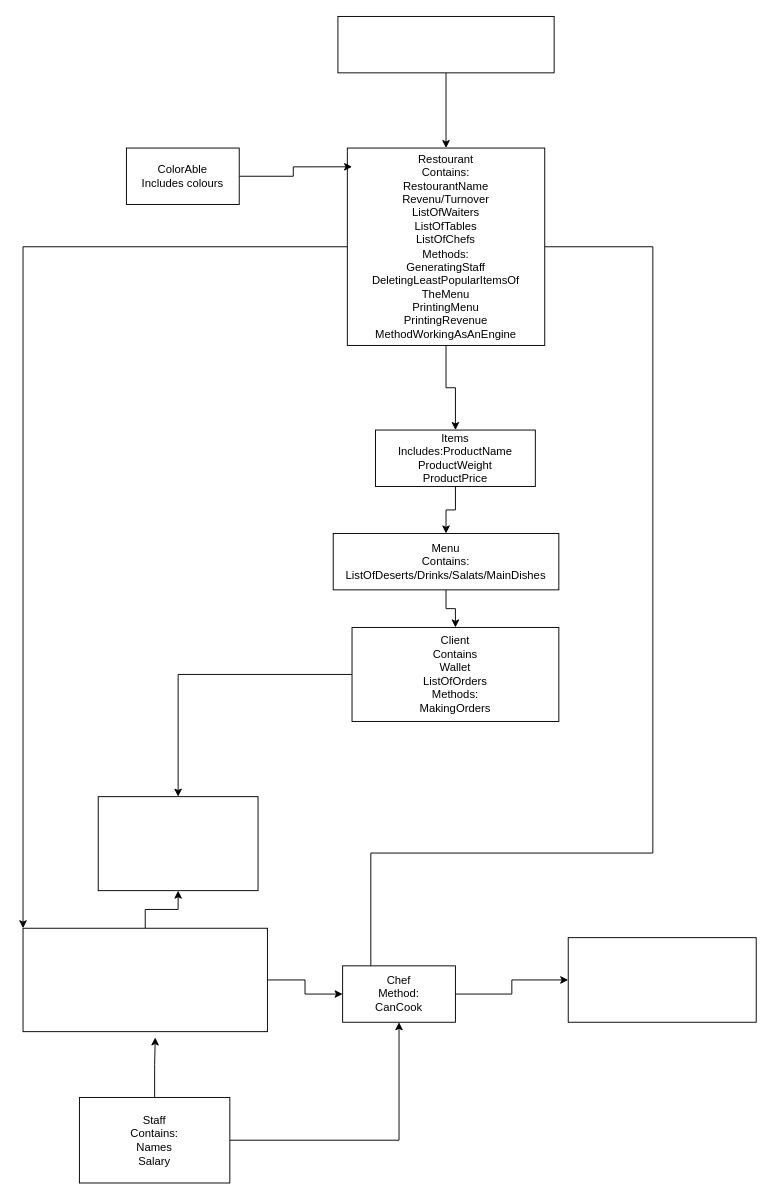
Some shapes in this 773 by 1199 pixel diagram are drawn without their labels. Here are the shapes that lost their labels. From the top down, the centre of each, then its label:
At point 445,44: "GenerateMethods Creating : Storage, Tables, Menu,RandomGenerator,Clients".
At point 177,843: "Table Contains: TableNumber ListOfClients".
At point 144,979: "Waiters Contains: ListOfOrders/ListOfAllOrdesOfTheday".
At point 661,979: "Storage Contains: availableProducts Method: PrintingForAvailableProducts".
